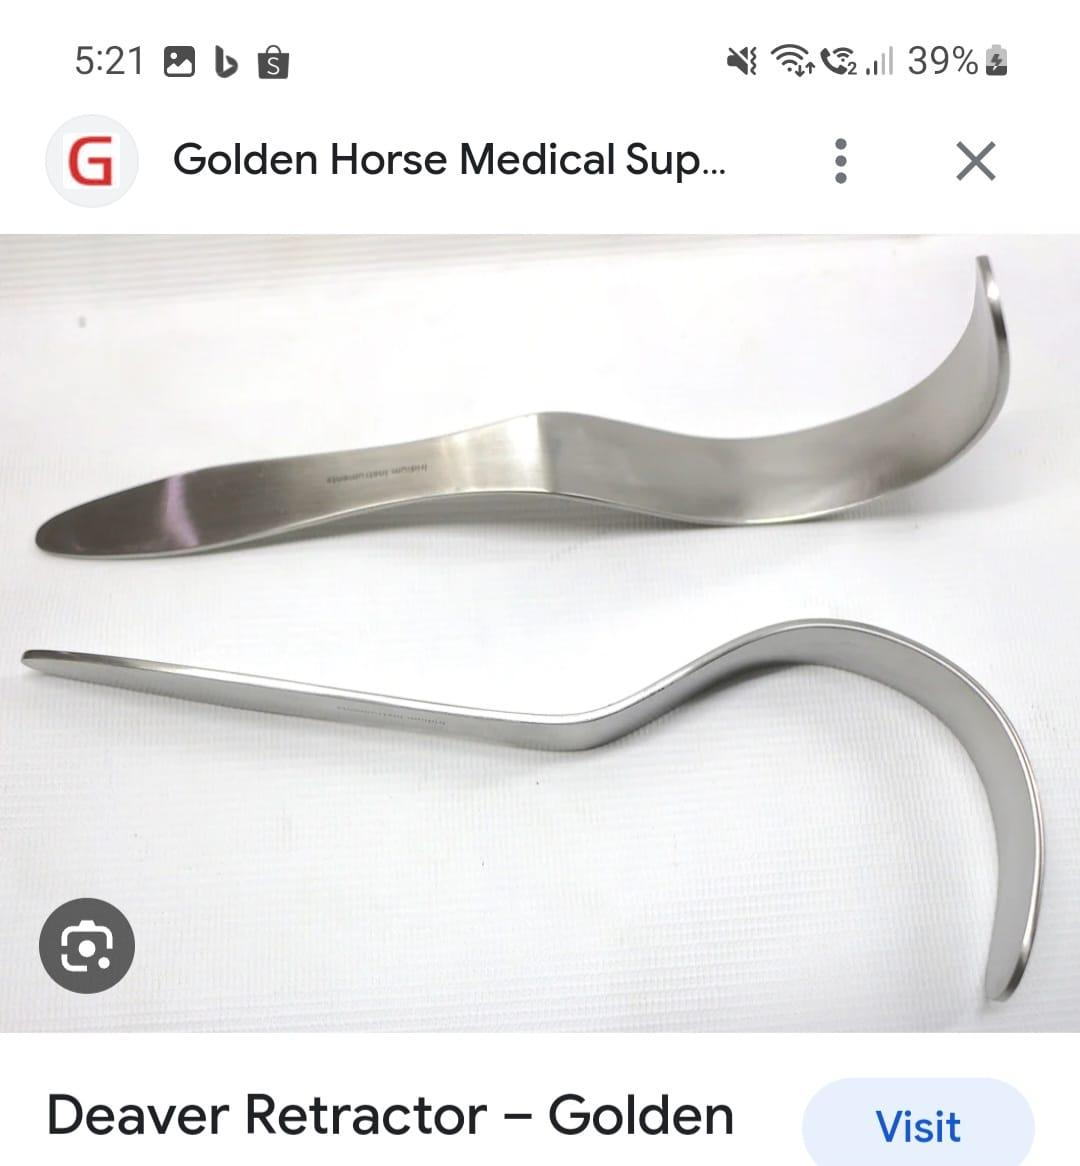Deaver Retractor: (13, 615, 1057, 1008), (27, 250, 1043, 588)
